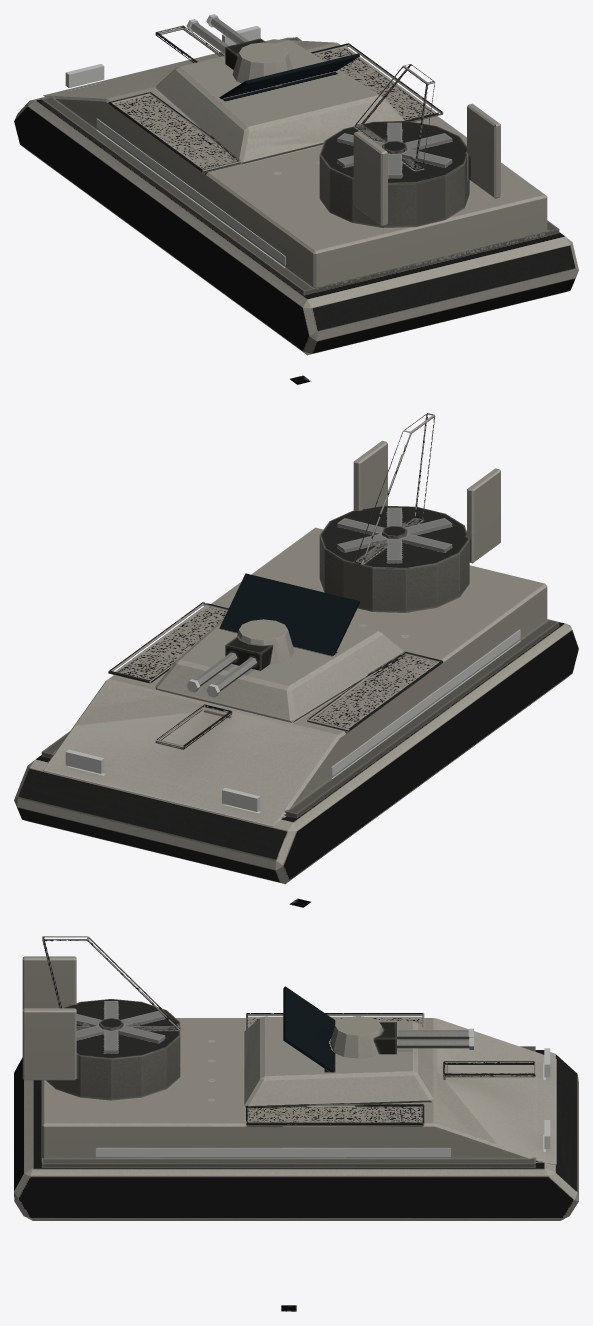
Rendered from ord_dart.fbx.
3 renders of one model, top to bottom at view 1: azimuth 30°, elevation 25°; view 2: azimuth 150°, elevation 25°; view 3: azimuth 270°, elevation 25°, orthographic. The views are drawn at different scales.
Parts seen in each view (by area): view 1: base_bar, turret_bar, fan1_bar, base_glow_running_bar, base_glow_head_bar; view 2: base_bar, turret_bar, fan1_bar, base_glow_running_bar, base_glow_head_bar; view 3: base_bar, turret_bar, base_glow_running_bar, fan1_bar.
Boxes of the visible parts, box(x1,y1,x2,y2) form: base_bar: box(14, 25, 578, 355); turret_bar: box(190, 17, 292, 86); fan1_bar: box(337, 122, 452, 178); base_glow_running_bar: box(96, 118, 285, 265); base_glow_head_bar: box(65, 26, 260, 87); base_bar: box(14, 413, 578, 884); turret_bar: box(194, 619, 294, 691); fan1_bar: box(337, 507, 452, 563); base_glow_running_bar: box(331, 629, 520, 776); base_glow_head_bar: box(65, 749, 260, 811); base_bar: box(14, 936, 578, 1220); turret_bar: box(330, 1016, 469, 1058); base_glow_running_bar: box(96, 1148, 450, 1156); fan1_bar: box(76, 1001, 165, 1053).
Bounding box in the file's own units: 380 × 530 × 732.
2 materials, 2 textured.
